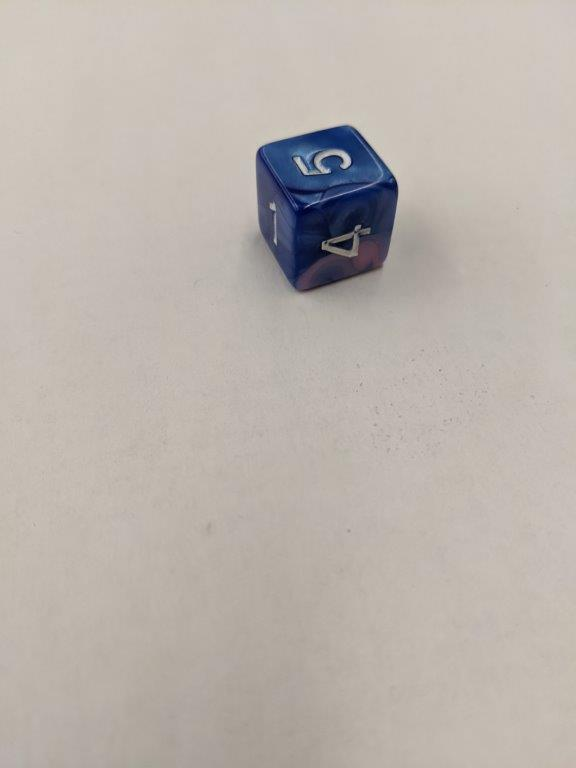d6-5: (256, 124, 397, 291)
